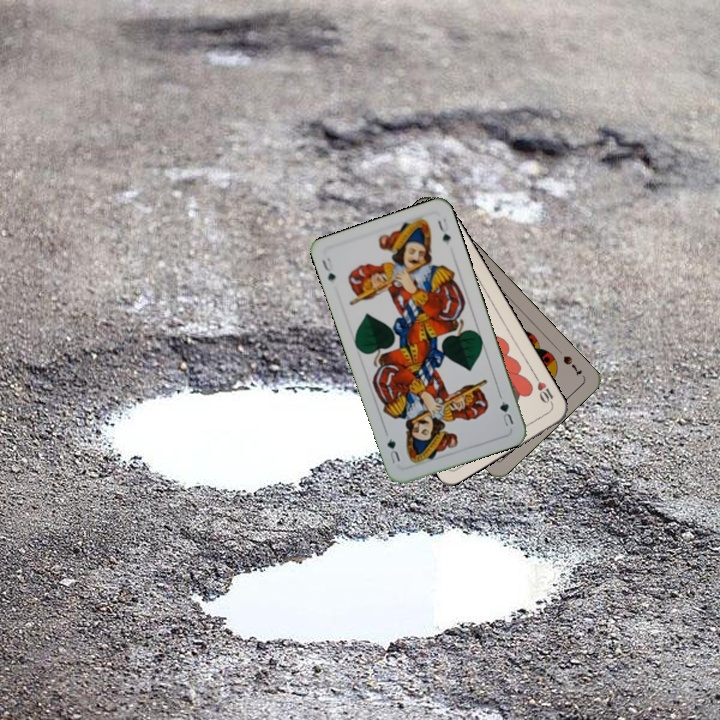GU: (495, 397, 516, 429), (318, 253, 338, 283)
H10: (530, 371, 556, 409)
S7: (559, 352, 584, 378)
